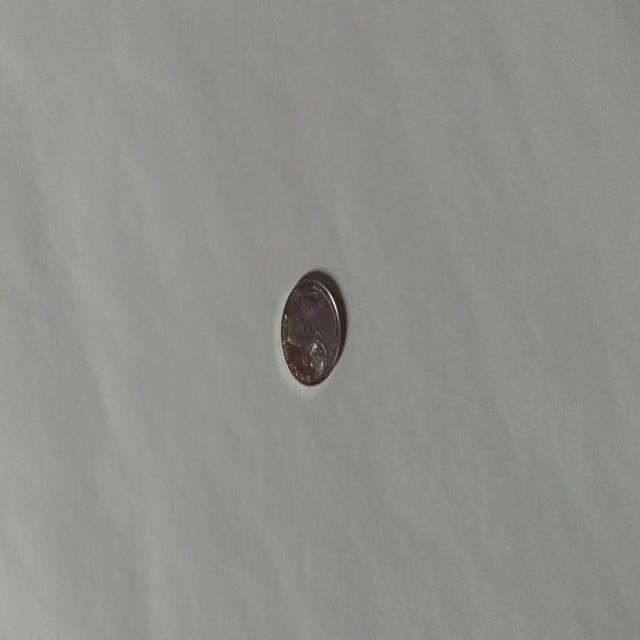dua ratus rupiah: (280, 273, 342, 387)
